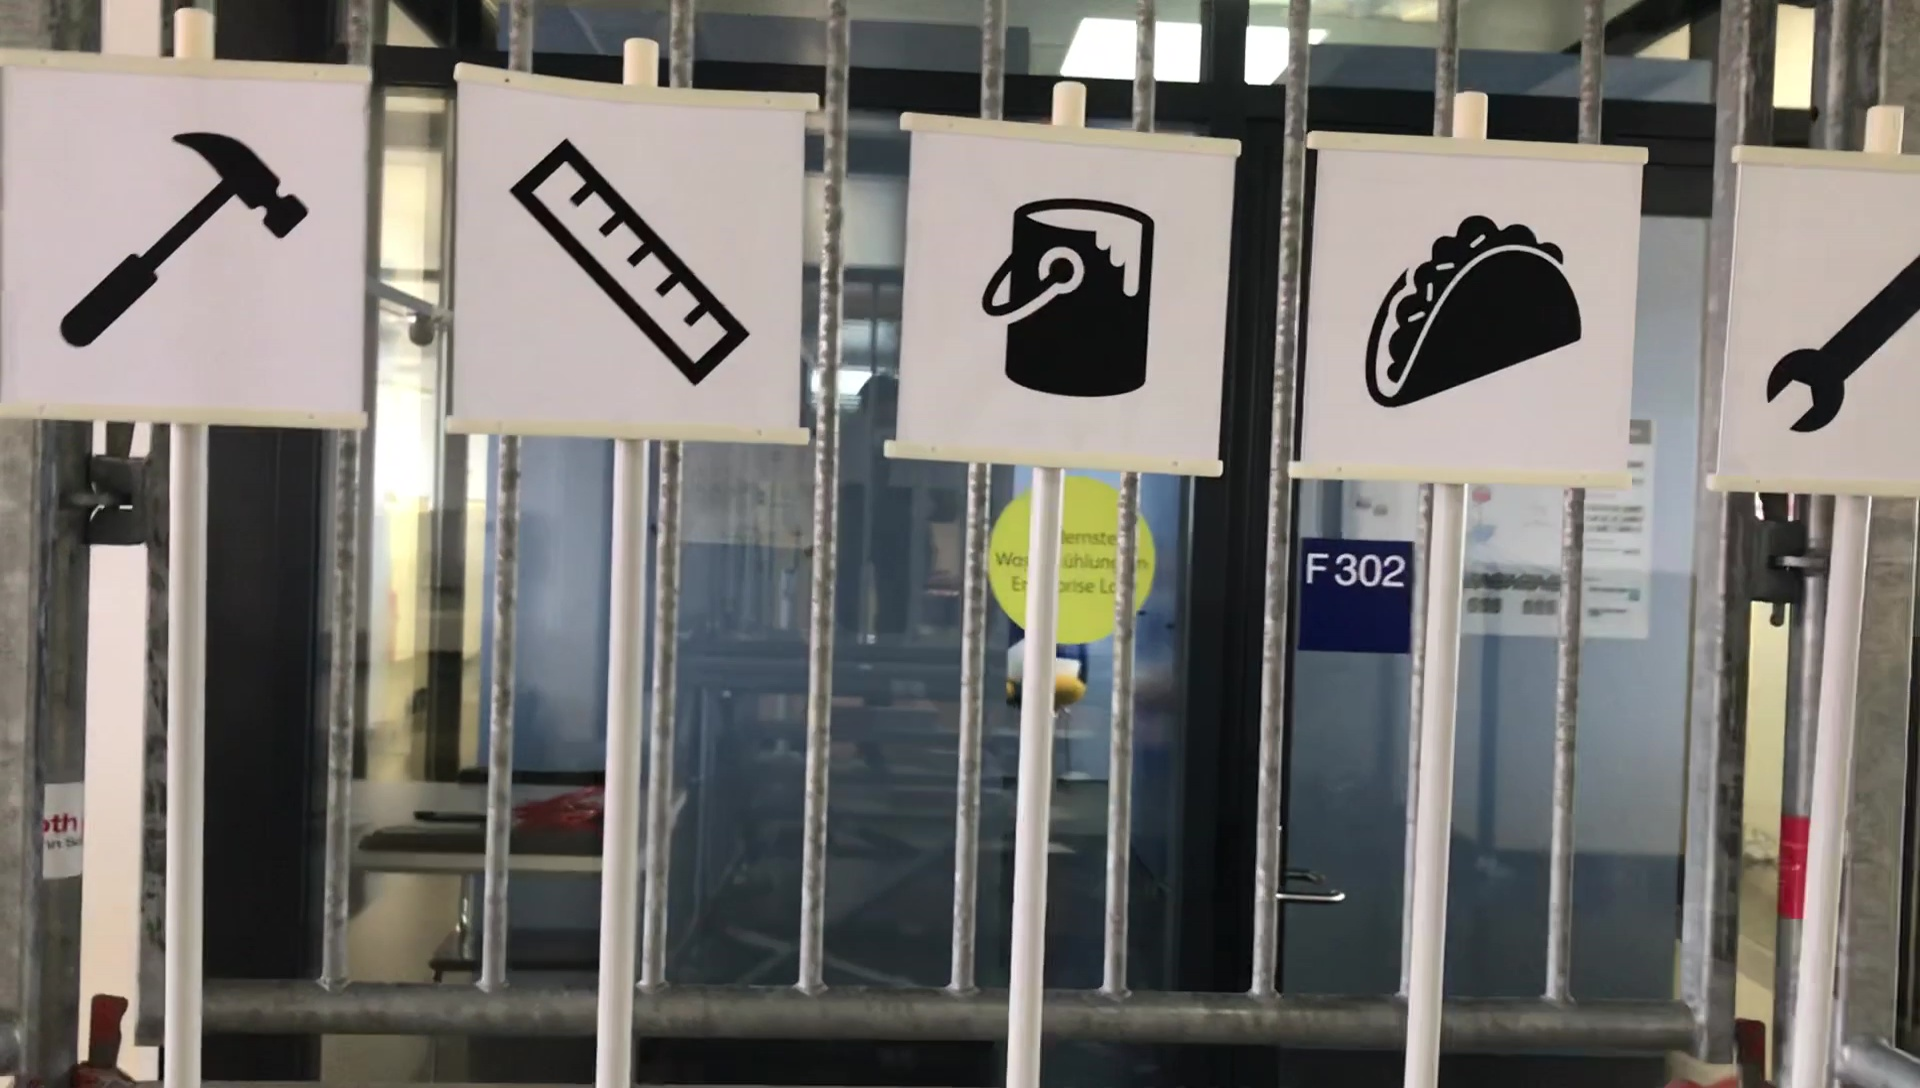bucket: (975, 189, 1174, 405)
hammer: (59, 117, 324, 353)
ruler: (501, 129, 778, 400)
taco: (1352, 204, 1617, 411)
wrench: (1758, 185, 1920, 435)
